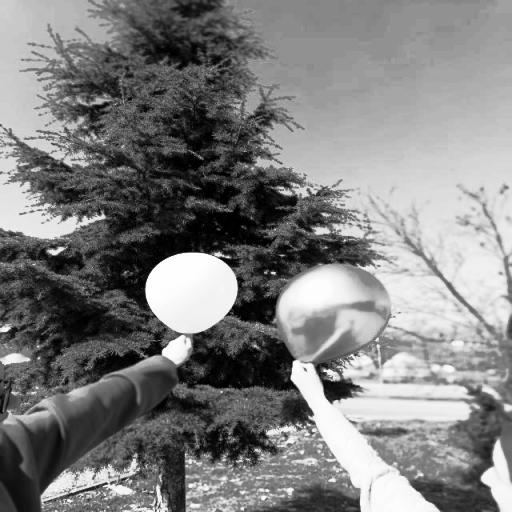balloon: (266, 259, 400, 366), (144, 248, 238, 342)
